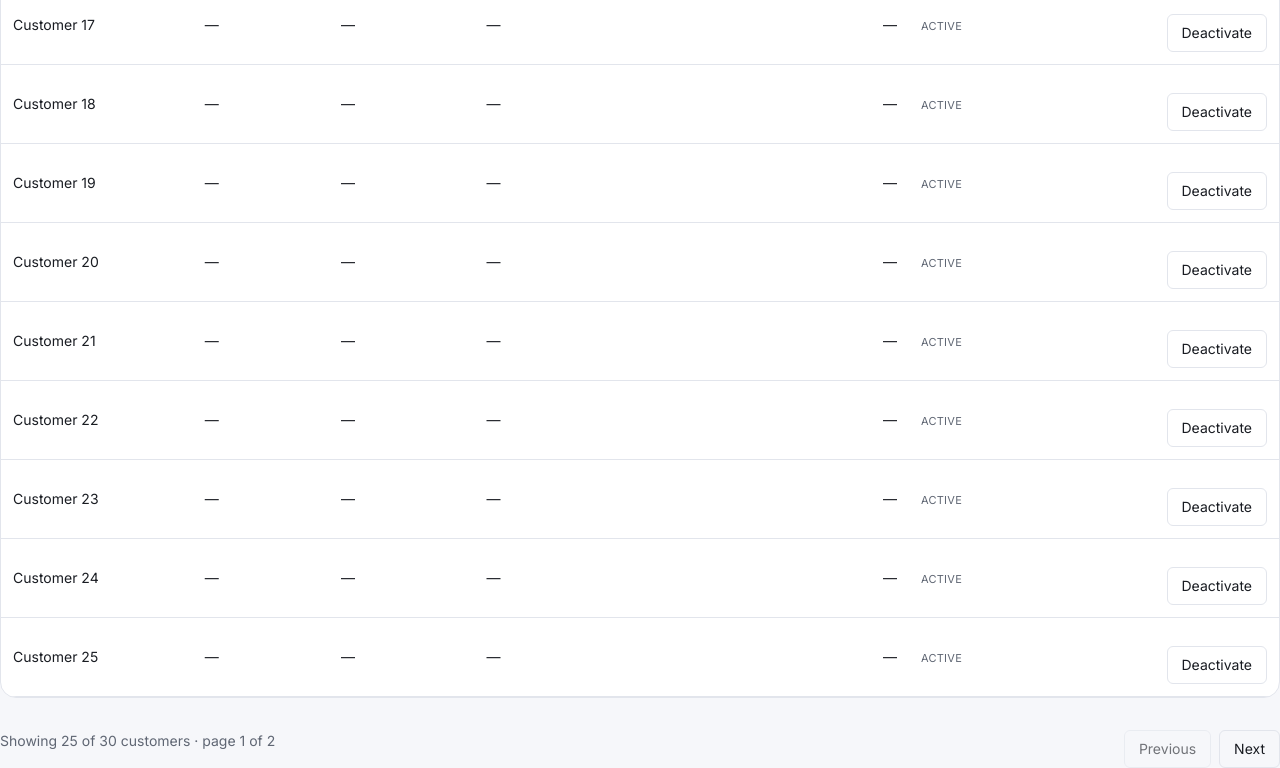
Scenario: CustomersPage › pages a long list 25 at a time
(page scrolled)
Check: the text "Customer 26" is not shown
Check: the text "Showing 25 of 30 customers · page 1 of 2" is shown, box [0,730,275,750]
Click the button "Next" at (1250, 748), box [1219,730,1279,767]
(page scrolled)
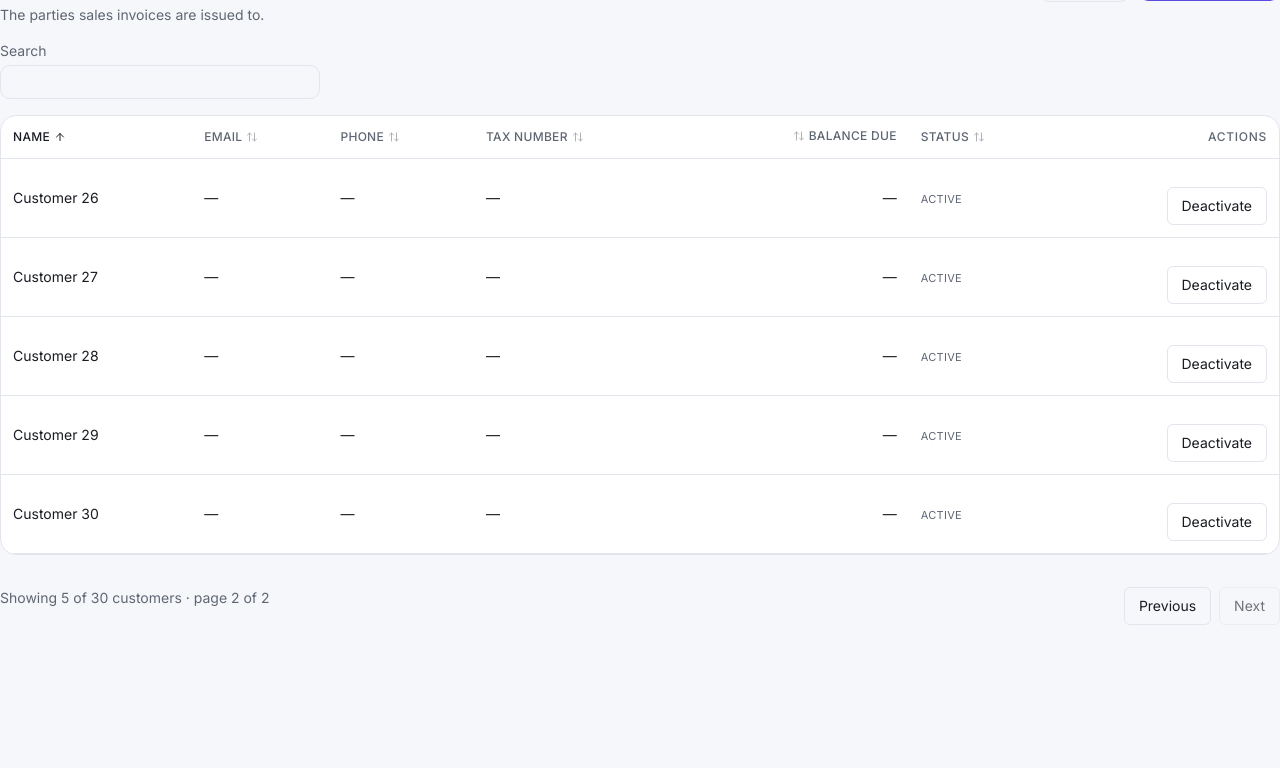
Check: the link "Customer 26" is shown, box [13,188,99,206]
